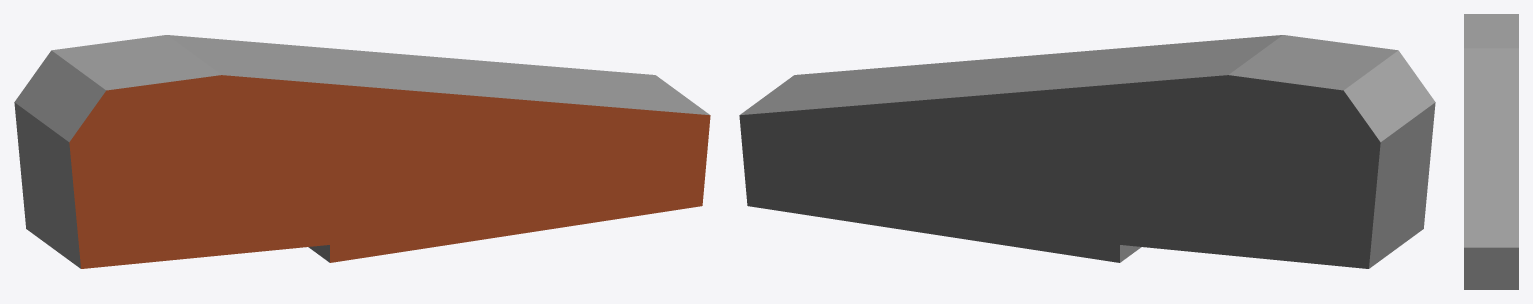
File: construction_3753_assumed_A_Casa_h6m.obj
3 renders of one model, left to right at view 1: azimuth 30°, elevation 25°; view 2: azimuth 150°, elevation 25°; view 3: azimuth 270°, elevation 25°, orthographic. The views are drawn at different scales.
Parts seen in each view (by area): view 1: construction_3753_assumed_A_Casa; view 2: construction_3753_assumed_A_Casa; view 3: construction_3753_assumed_A_Casa.
Part boxes in pixels (bbox=[...]): construction_3753_assumed_A_Casa: bbox=[14, 35, 710, 268]; construction_3753_assumed_A_Casa: bbox=[739, 35, 1435, 268]; construction_3753_assumed_A_Casa: bbox=[1464, 14, 1518, 289].
Size of the model in its own units: 40.44 by 15.73 by 6.
